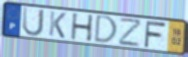D: (93, 13, 119, 44)
F: (143, 20, 168, 48)
H: (70, 13, 95, 43)
K: (48, 10, 67, 40)
U: (22, 6, 46, 38)
Z: (118, 18, 144, 48)
